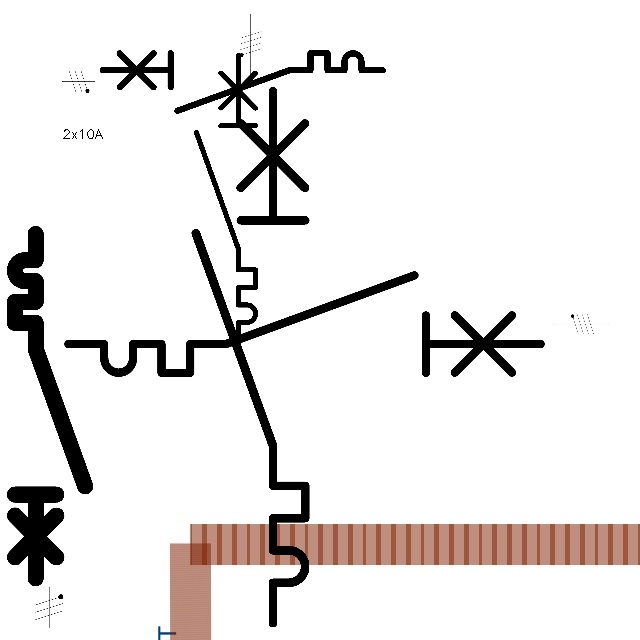interruptor_termomagnetico: (182, 77, 319, 636), (56, 263, 553, 385), (6, 225, 94, 587), (189, 48, 263, 352), (95, 46, 390, 118)
